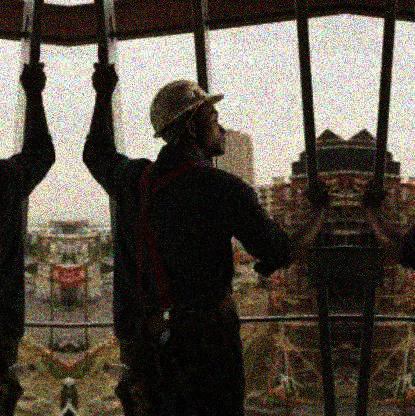helmet: (149, 78, 229, 157)
